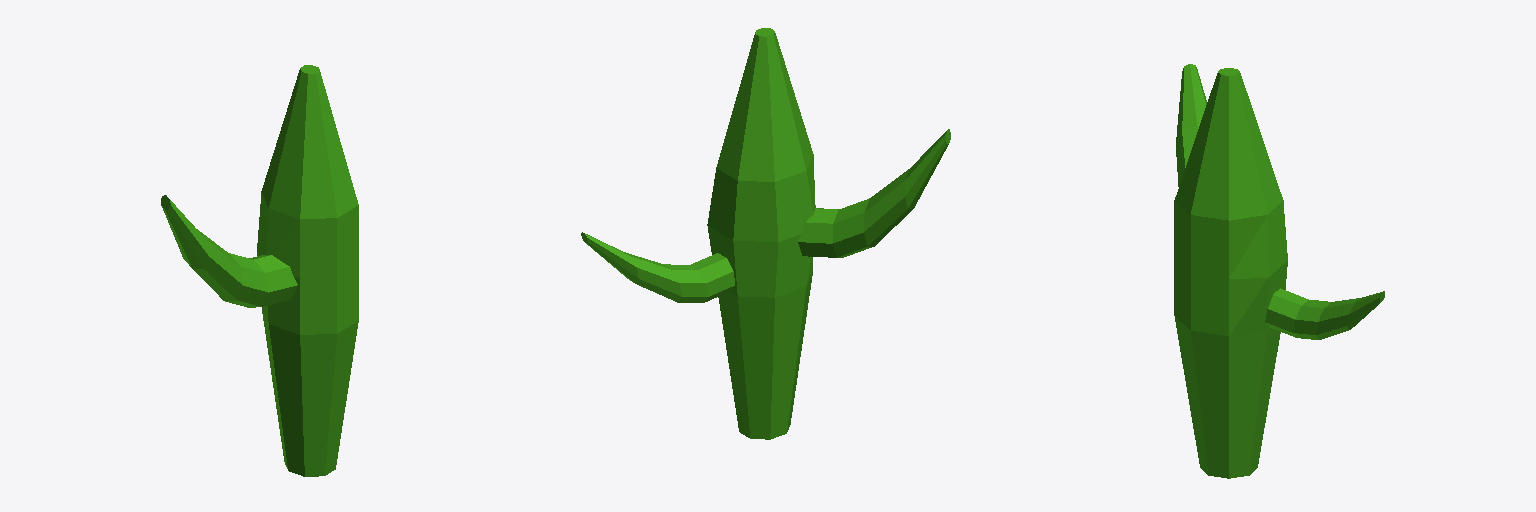
3 views of the same model, side by side, from view 1: azimuth 30°, elevation 25°; view 2: azimuth 150°, elevation 25°; view 3: azimuth 270°, elevation 25° (orthographic).
Visible parts, largest first — view 1: Cactus.002; view 2: Cactus.002; view 3: Cactus.002.
Boxes of the visible parts, x1,y1,x2,y2 form: Cactus.002: [161, 65, 358, 476]; Cactus.002: [581, 28, 950, 439]; Cactus.002: [1174, 64, 1384, 478].
Bounding box in the file's own units: 1.73 × 2.4 × 1.16.
1 materials, 1 textured.